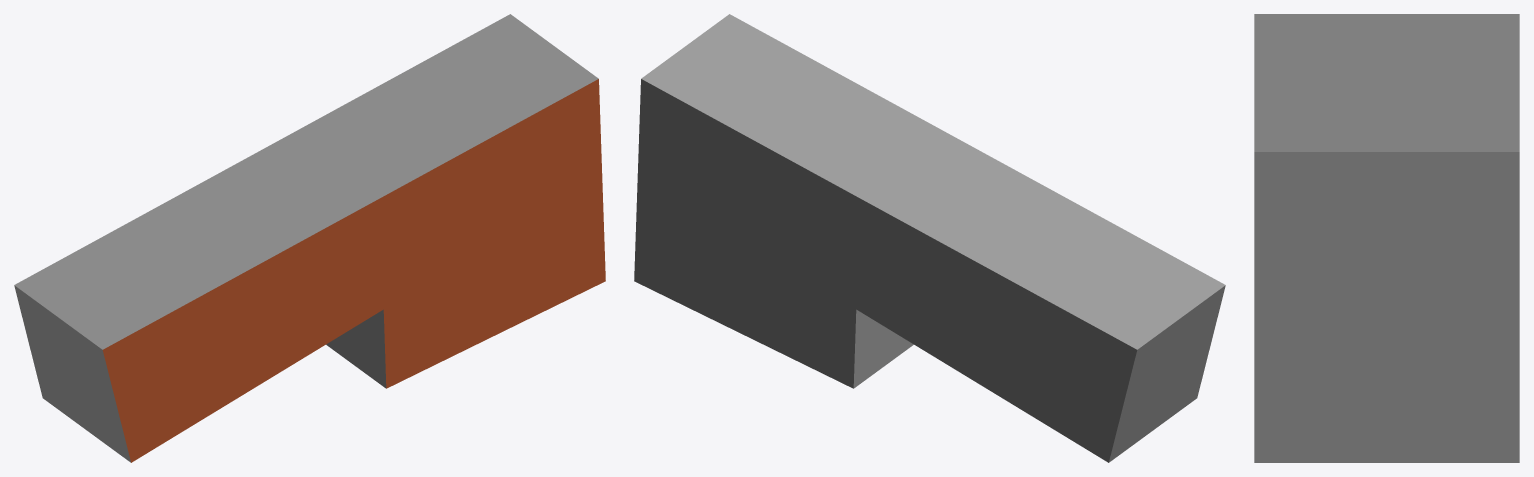
File: construction_7185_assumed_A_Ruinas_h6m.obj
The picture shows the model from 3 angles, left to right: view 1: azimuth 30°, elevation 25°; view 2: azimuth 150°, elevation 25°; view 3: azimuth 270°, elevation 25°; orthographic projection. The views are drawn at different scales.
Parts seen in each view (by area): view 1: construction_7185_assumed_A_Ruinas; view 2: construction_7185_assumed_A_Ruinas; view 3: construction_7185_assumed_A_Ruinas.
Boxes of the visible parts, x1,y1,x2,y2 form: construction_7185_assumed_A_Ruinas: (14, 14, 605, 462); construction_7185_assumed_A_Ruinas: (634, 14, 1225, 462); construction_7185_assumed_A_Ruinas: (1254, 14, 1519, 462).
Bounding box in the file's own units: 19.69 × 10.1 × 6.
